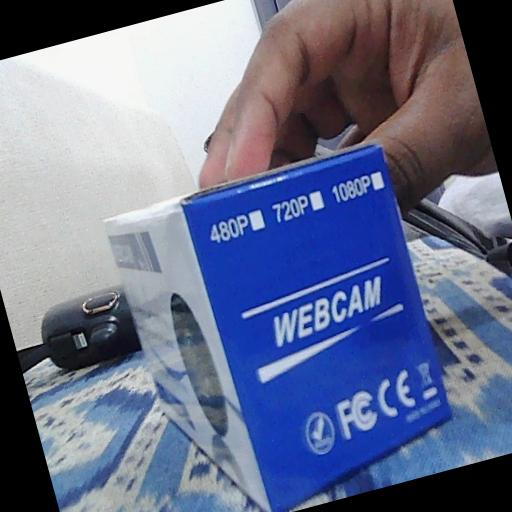webcam_box: (99, 138, 468, 512)
